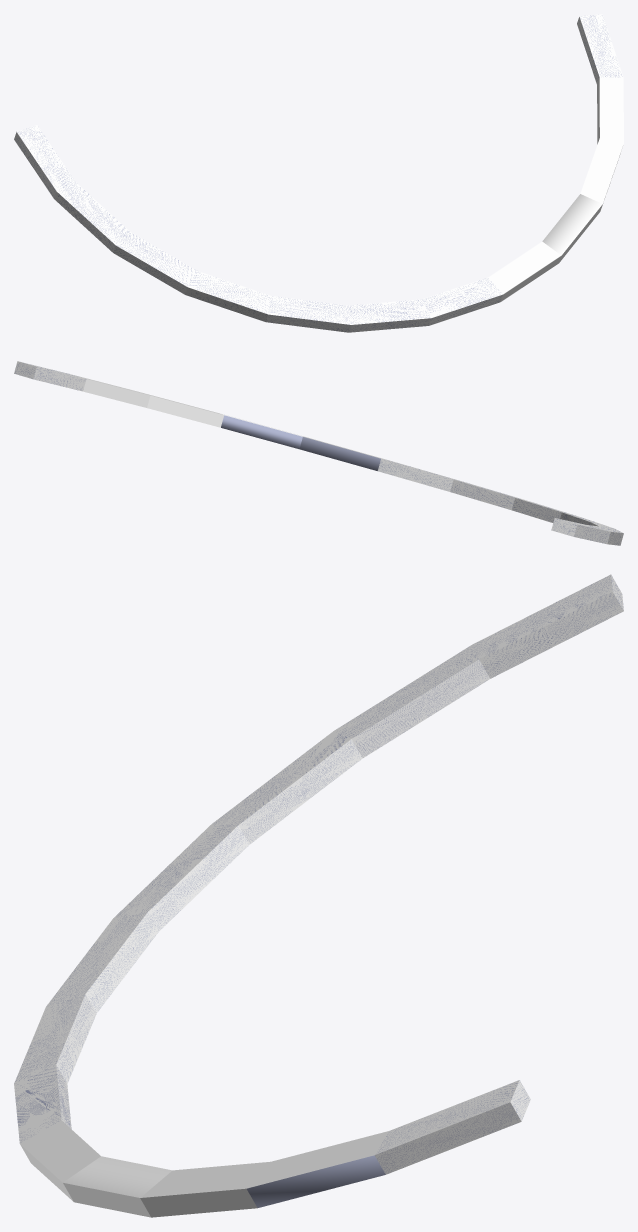
The model's file is original-3.obj.
3 renders of one model, top to bottom at view 1: azimuth 30°, elevation 25°; view 2: azimuth 150°, elevation 25°; view 3: azimuth 270°, elevation 25°, orthographic. The views are drawn at different scales.
Visible parts, largest first — view 1: instance_1/Component_1/ID6#ID6.009, instance_1/Component_1/ID6#ID6.008, instance_1/Component_1/ID6#ID6.010, instance_1/Component_1/ID6#ID6.007, instance_1/Component_1/ID6#ID6.011, instance_1/Component_1/ID6#ID6.006, instance_1/Component_1/ID6#ID6, instance_1/Component_1/ID6#ID6.005, instance_1/Component_1/ID6#ID6.001, instance_1/Component_1/ID6#ID6.004, instance_1/Component_1/ID6#ID6.002, instance_1/Component_1/ID6#ID6.003; view 2: instance_1/Component_1/ID6#ID6.004, instance_1/Component_1/ID6#ID6.005, instance_1/Component_1/ID6#ID6.003, instance_1/Component_1/ID6#ID6.006, instance_1/Component_1/ID6#ID6.001, instance_1/Component_1/ID6#ID6.002, instance_1/Component_1/ID6#ID6.007, instance_1/Component_1/ID6#ID6, instance_1/Component_1/ID6#ID6.008; view 3: instance_1/Component_1/ID6#ID6.001, instance_1/Component_1/ID6#ID6, instance_1/Component_1/ID6#ID6.011, instance_1/Component_1/ID6#ID6.010, instance_1/Component_1/ID6#ID6.002, instance_1/Component_1/ID6#ID6.009, instance_1/Component_1/ID6#ID6.003, instance_1/Component_1/ID6#ID6.008, instance_1/Component_1/ID6#ID6.007, instance_1/Component_1/ID6#ID6.004, instance_1/Component_1/ID6#ID6.006, instance_1/Component_1/ID6#ID6.005.
Boxes of the visible parts, box(x1,y1,x2,y2) form: instance_1/Component_1/ID6#ID6.009: box(185, 271, 270, 321); instance_1/Component_1/ID6#ID6.008: box(266, 296, 350, 332); instance_1/Component_1/ID6#ID6.010: box(113, 232, 196, 294); instance_1/Component_1/ID6#ID6.007: box(348, 299, 431, 332); instance_1/Component_1/ID6#ID6.011: box(54, 182, 129, 252); instance_1/Component_1/ID6#ID6.006: box(422, 277, 502, 325); instance_1/Component_1/ID6#ID6: box(14, 125, 75, 198); instance_1/Component_1/ID6#ID6.005: box(488, 241, 561, 301); instance_1/Component_1/ID6#ID6.001: box(577, 14, 623, 84); instance_1/Component_1/ID6#ID6.004: box(542, 194, 602, 262); instance_1/Component_1/ID6#ID6.002: box(597, 77, 623, 144); instance_1/Component_1/ID6#ID6.003: box(580, 138, 623, 206); instance_1/Component_1/ID6#ID6.004: box(220, 413, 302, 449); instance_1/Component_1/ID6#ID6.005: box(299, 436, 385, 470); instance_1/Component_1/ID6#ID6.003: box(142, 392, 223, 427); instance_1/Component_1/ID6#ID6.006: box(378, 458, 463, 491); instance_1/Component_1/ID6#ID6.001: box(14, 361, 86, 391); instance_1/Component_1/ID6#ID6.002: box(74, 375, 150, 407); instance_1/Component_1/ID6#ID6.007: box(450, 479, 529, 510); instance_1/Component_1/ID6#ID6: box(551, 518, 610, 543); instance_1/Component_1/ID6#ID6.008: box(512, 498, 580, 522); instance_1/Component_1/ID6#ID6.001: box(374, 1080, 530, 1174); instance_1/Component_1/ID6#ID6: box(472, 574, 623, 678); instance_1/Component_1/ID6#ID6.011: box(334, 645, 489, 757); instance_1/Component_1/ID6#ID6.010: box(212, 731, 362, 844); instance_1/Component_1/ID6#ID6.002: box(246, 1131, 388, 1207); instance_1/Component_1/ID6#ID6.009: box(113, 824, 249, 931); instance_1/Component_1/ID6#ID6.003: box(140, 1161, 270, 1217); instance_1/Component_1/ID6#ID6.008: box(46, 912, 158, 1012); instance_1/Component_1/ID6#ID6.007: box(14, 994, 96, 1083); instance_1/Component_1/ID6#ID6.004: box(63, 1156, 172, 1217); instance_1/Component_1/ID6#ID6.006: box(14, 1065, 71, 1143); instance_1/Component_1/ID6#ID6.005: box(20, 1120, 100, 1201).
Size of the model in its own units: 1.46 by 0.3676 by 0.7107.
